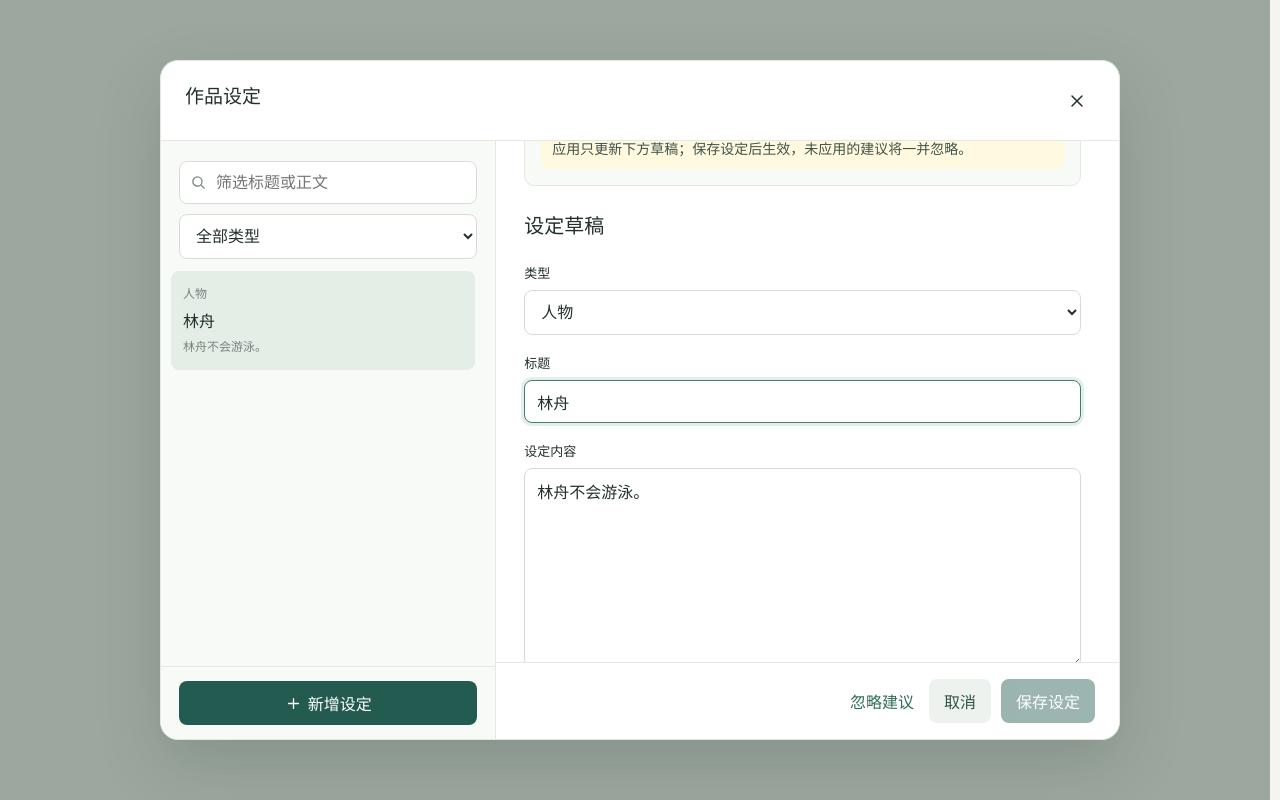
Scenario: a stale setting proposal cannot apply or save but can be rejected without changing the setting
This screenshot has width=1280, height=800.
(page scrolled)
Check: the form named "审阅设定修改" is shown, box [496,141,1119,739]
Check: the button "保存设定" is disabled, box [1001,679,1095,723]
Click the button "忽略建议" at (882,701), box [845,686,919,716]
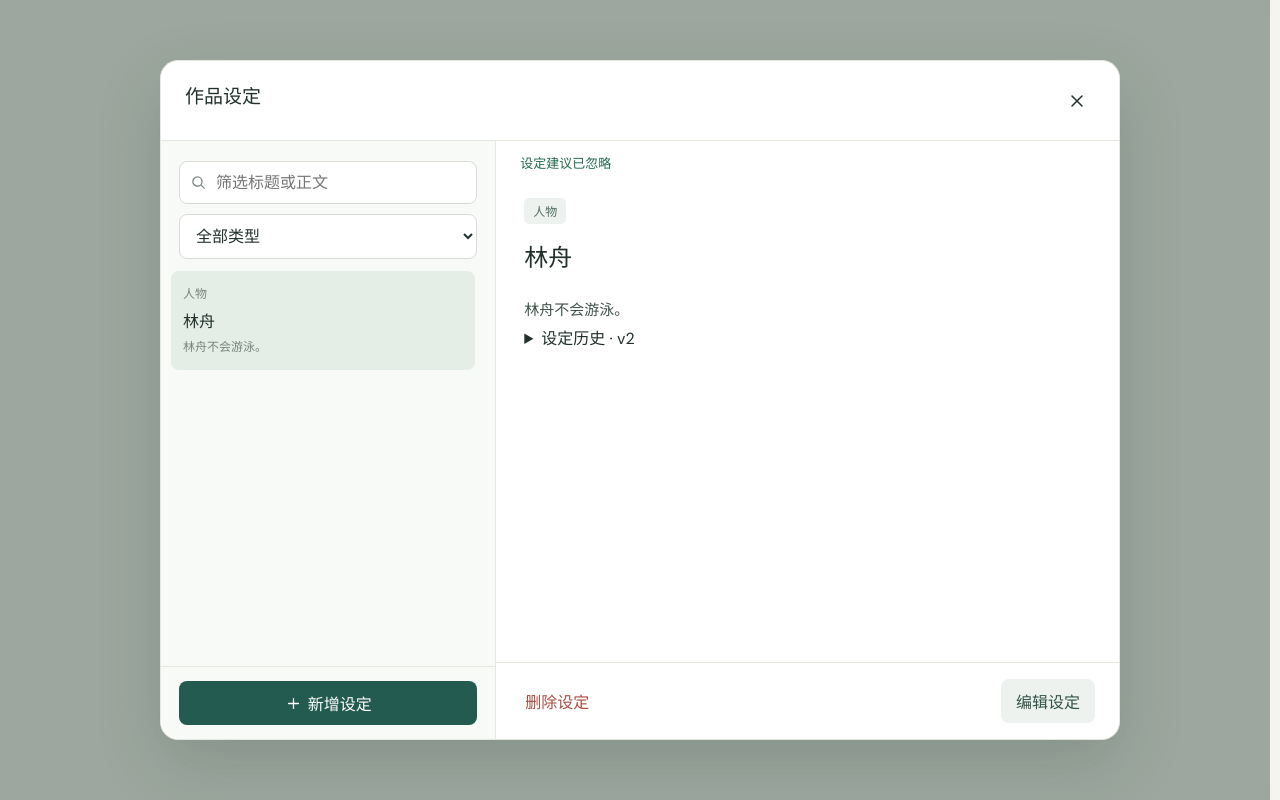
Check: the text "设定建议已忽略" is shown, box [520,155,611,172]
